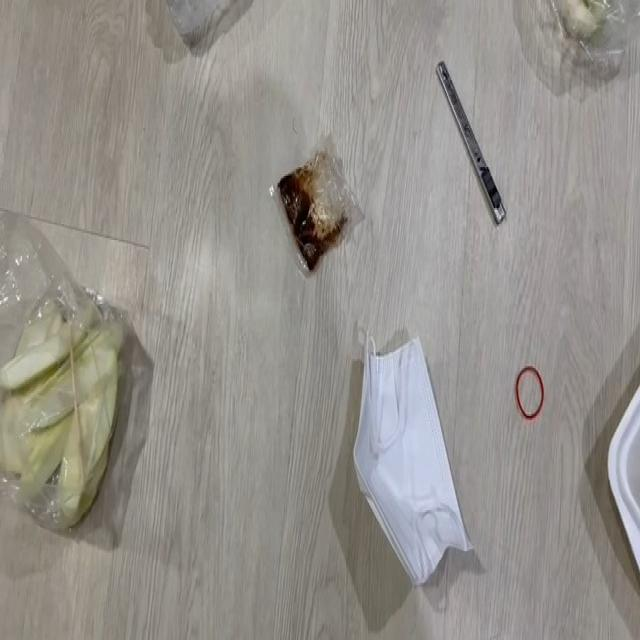Anorganik: (422, 57, 521, 220), (602, 218, 640, 630), (139, 0, 240, 69), (510, 363, 549, 423)
B3: (0, 290, 133, 539), (349, 328, 474, 586), (263, 123, 364, 287)
